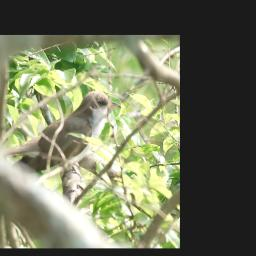Cuckoo: (0, 89, 121, 176)
